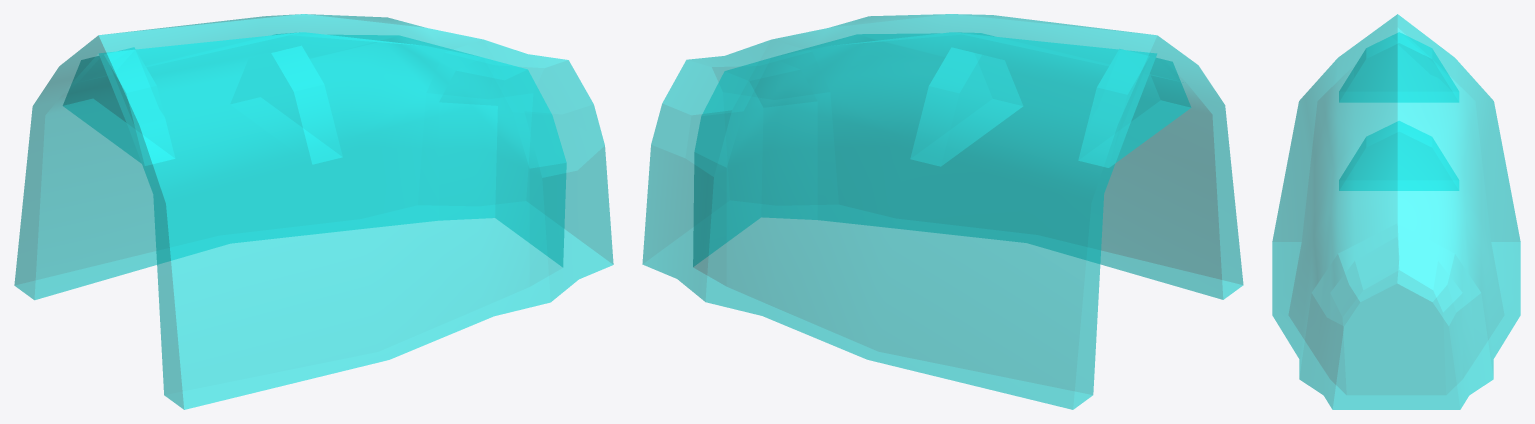
File: SM_Bld_Rooftop_09_Collision.fbx
The picture shows the model from 3 angles, left to right: view 1: azimuth 30°, elevation 25°; view 2: azimuth 150°, elevation 25°; view 3: azimuth 270°, elevation 25°; orthographic projection. The views are drawn at different scales.
Parts seen in each view (by area): view 1: SM_Bld_Rooftop_09_Collision; view 2: SM_Bld_Rooftop_09_Collision; view 3: SM_Bld_Rooftop_09_Collision.
Boxes of the visible parts, bbox=[...] form: SM_Bld_Rooftop_09_Collision: bbox=[14, 14, 613, 409]; SM_Bld_Rooftop_09_Collision: bbox=[642, 14, 1243, 409]; SM_Bld_Rooftop_09_Collision: bbox=[1272, 14, 1520, 409].
Bounding box in the file's own units: 515 × 326 × 322.
